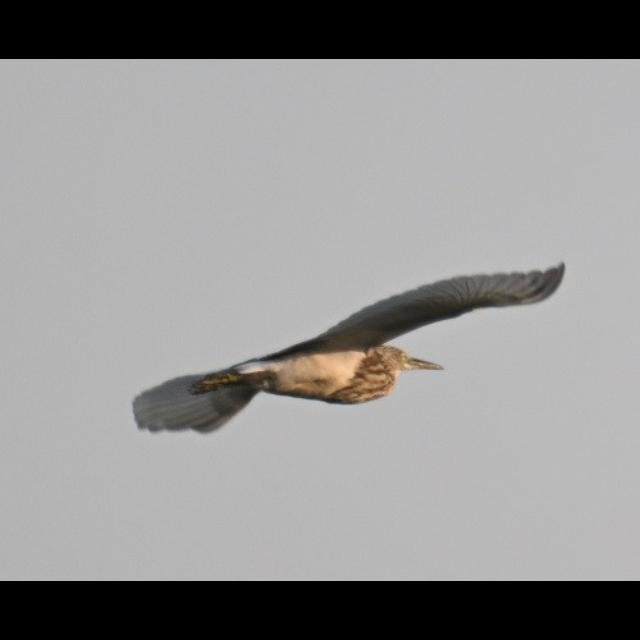heron: (134, 261, 558, 434)
